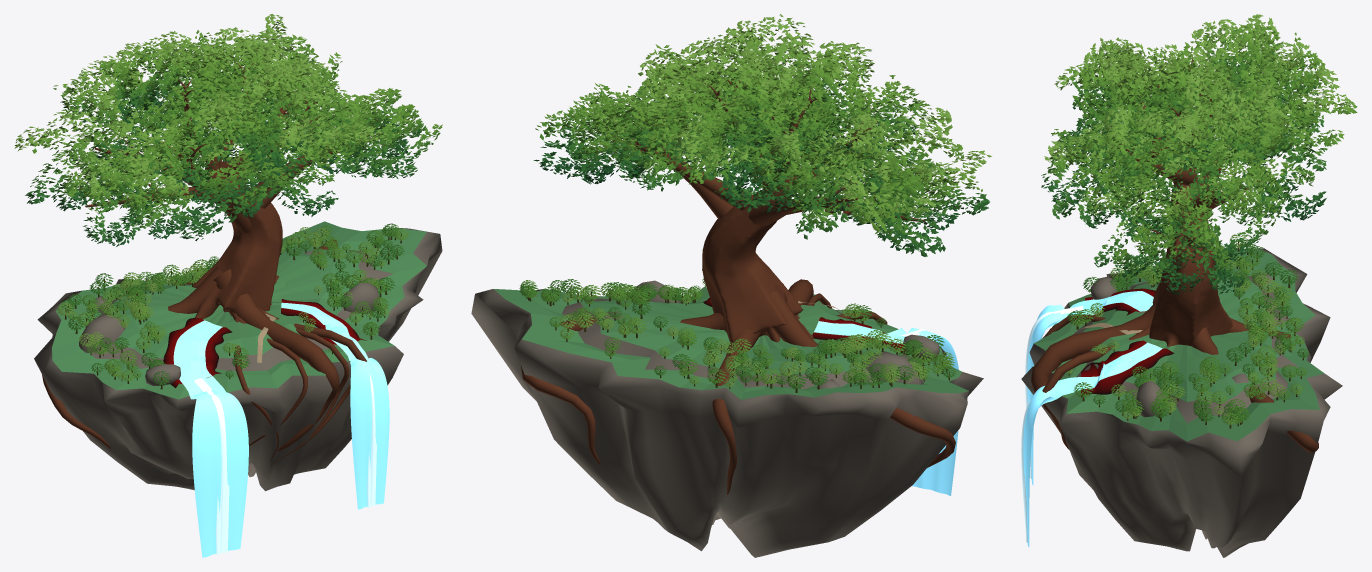
Rendered from 生命樹庭園.fbx.
3 renders of one model, left to right at view 1: azimuth 30°, elevation 25°; view 2: azimuth 150°, elevation 25°; view 3: azimuth 270°, elevation 25°, orthographic. The views are drawn at different scales.
Visible parts, largest first — view 1: 浮島_中央生命島, 林地_葉冠, 瀑布_中央左, 葉群網格_前景葉簇_02, 葉群網格_前景葉簇_06, 葉群網格_後景葉簇_01, 主幹, 葉群網格_前景葉簇_04, 葉群網格_前景葉簇_05, 瀑布_中央右, 葉群網格_前景葉簇_01, 葉群網格_後景葉簇_05 (+23 smaller); view 2: 浮島_中央生命島, 林地_葉冠, 主幹, 葉群網格_後景葉簇_05, 葉群網格_後景葉簇_01, 葉群網格_後景葉簇_02, 葉群網格_後景葉簇_06, 葉群網格_後景葉簇_08, 葉群網格_後景葉簇_04, 葉群網格_前景葉簇_06, 葉群網格_前景葉簇_05, 葉群網格_後景葉簇_03 (+16 smaller); view 3: 浮島_中央生命島, 林地_葉冠, 葉群網格_後景葉簇_03, 葉群網格_後景葉簇_04, 葉群網格_前景葉簇_04, 葉群網格_前景葉簇_03, 主幹, 葉群網格_後景葉簇_06, 葉群網格_後景葉簇_05, 葉群網格_前景葉簇_06, 葉群網格_前景葉簇_07, 葉群網格_後景葉簇_07 (+18 smaller).
Boxes of the visible parts, x1=… form: 浮島_中央生命島: x1=34, y1=221, x2=442, y2=491; 林地_葉冠: x1=57, y1=223, x2=409, y2=389; 瀑布_中央左: x1=183, y1=376, x2=248, y2=557; 葉群網格_前景葉簇_02: x1=101, y1=129, x2=269, y2=240; 葉群網格_前景葉簇_06: x1=153, y1=41, x2=305, y2=163; 葉群網格_後景葉簇_01: x1=14, y1=106, x2=163, y2=211; 主幹: x1=193, y1=130, x2=282, y2=318; 葉群網格_前景葉簇_04: x1=250, y1=95, x2=411, y2=195; 葉群網格_前景葉簇_05: x1=143, y1=81, x2=269, y2=201; 瀑布_中央右: x1=337, y1=341, x2=389, y2=509; 葉群網格_前景葉簇_01: x1=61, y1=149, x2=190, y2=246; 葉群網格_後景葉簇_05: x1=100, y1=39, x2=241, y2=123; 浮島_中央生命島: x1=471, y1=286, x2=983, y2=557; 林地_葉冠: x1=519, y1=278, x2=956, y2=392; 主幹: x1=702, y1=145, x2=815, y2=342; 葉群網格_後景葉簇_05: x1=686, y1=53, x2=852, y2=195; 葉群網格_後景葉簇_01: x1=785, y1=151, x2=951, y2=256; 葉群網格_後景葉簇_02: x1=739, y1=117, x2=890, y2=215; 葉群網格_後景葉簇_06: x1=638, y1=37, x2=800, y2=186; 葉群網格_後景葉簇_08: x1=640, y1=108, x2=804, y2=212; 葉群網格_後景葉簇_04: x1=568, y1=62, x2=724, y2=184; 葉群網格_前景葉簇_06: x1=721, y1=14, x2=869, y2=164; 葉群網格_前景葉簇_05: x1=760, y1=36, x2=931, y2=188; 葉群網格_後景葉簇_03: x1=533, y1=95, x2=702, y2=191; 浮島_中央生命島: x1=1021, y1=247, x2=1342, y2=557; 林地_葉冠: x1=1066, y1=233, x2=1309, y2=428; 葉群網格_後景葉簇_03: x1=1156, y1=143, x2=1286, y2=293; 葉群網格_後景葉簇_04: x1=1177, y1=102, x2=1326, y2=221; 葉群網格_前景葉簇_04: x1=1044, y1=124, x2=1183, y2=247; 葉群網格_前景葉簇_03: x1=1089, y1=177, x2=1213, y2=294; 主幹: x1=1149, y1=141, x2=1232, y2=346; 葉群網格_後景葉簇_06: x1=1153, y1=53, x2=1308, y2=161; 葉群網格_後景葉簇_05: x1=1179, y1=21, x2=1323, y2=135; 葉群網格_前景葉簇_06: x1=1072, y1=47, x2=1218, y2=137; 葉群網格_前景葉簇_07: x1=1074, y1=94, x2=1211, y2=188; 葉群網格_後景葉簇_07: x1=1145, y1=84, x2=1284, y2=188.
Bounding box in the file's own units: 1093 × 1131 × 697.
